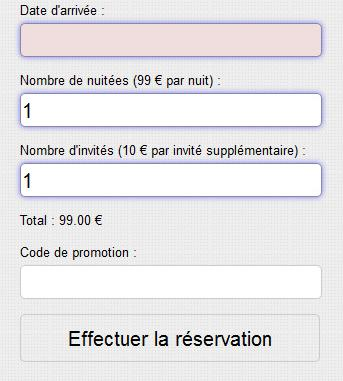button: (19, 313, 322, 362)
field: (16, 20, 324, 61), (17, 91, 327, 130), (17, 162, 324, 200), (19, 265, 324, 301)
